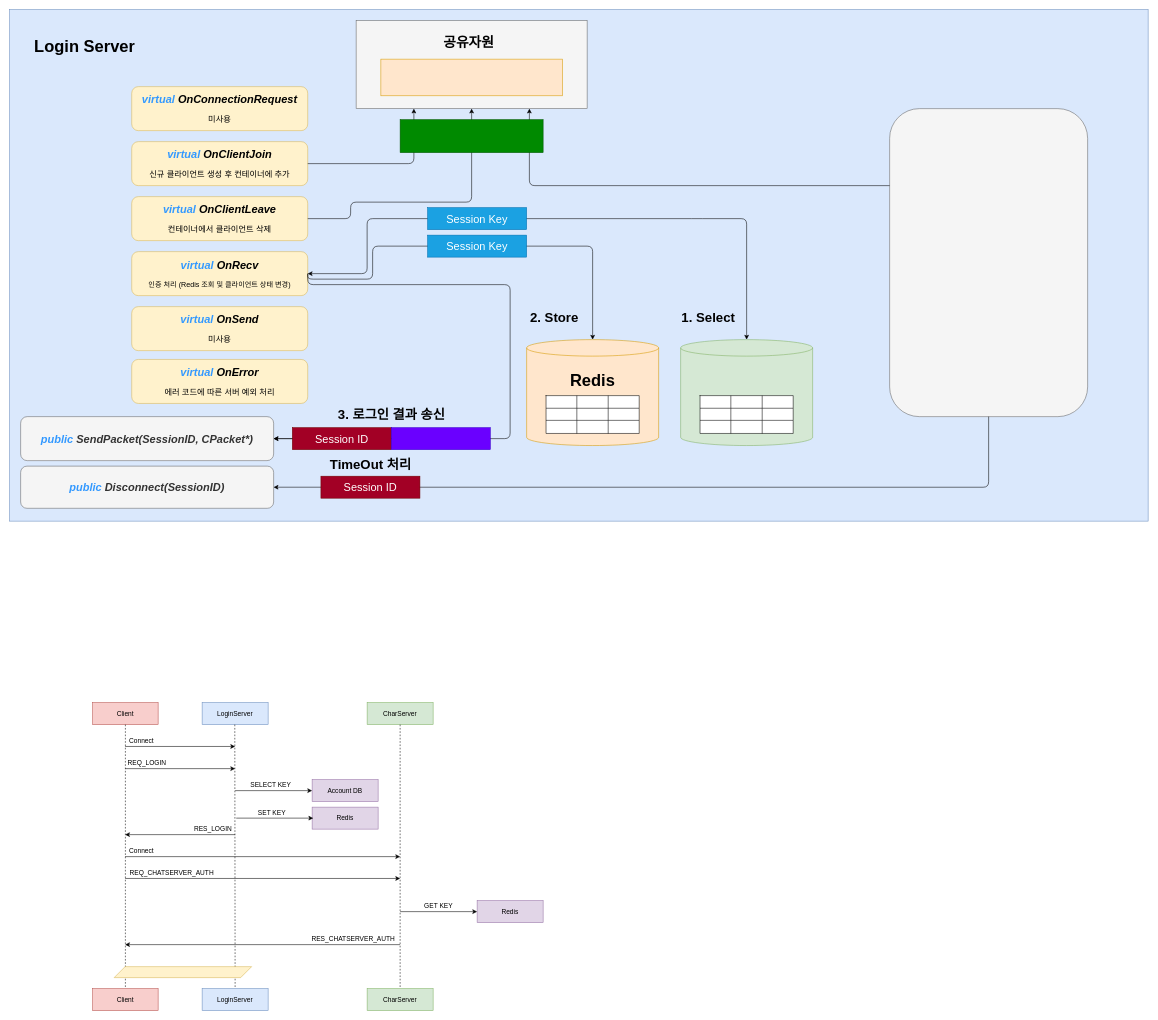
Image size: 1158x1020. Some labels were removed from this diagram. Here are the shapes that lost their labels. From the top down, the box of each, then its label:
(380, 59, 562, 96): Clients
(400, 119, 543, 153): LOCK
(889, 108, 1088, 417): Heartbeat Thread Timeout 처리 스레드 * 스레드 대기조건 : Sleep
(680, 339, 813, 446): DB
(391, 427, 490, 450): Send Packet
(114, 966, 252, 978): 로그인 서버와 접속을 끊는다.
